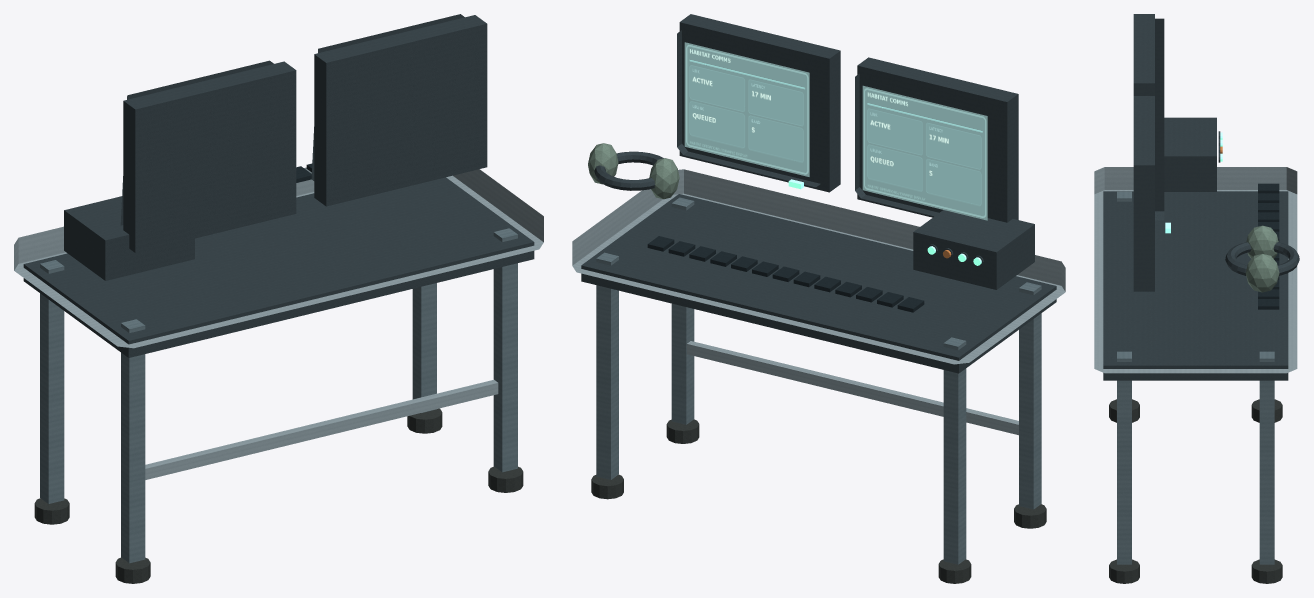
The model's file is communications_station.glb.
The picture shows the model from 3 angles, left to right: view 1: azimuth 30°, elevation 25°; view 2: azimuth 150°, elevation 25°; view 3: azimuth 270°, elevation 25°; orthographic projection. The views are drawn at different scales.
Visible parts, largest first — view 1: Display_Housing__graphite, static__graphite, static__trim, work_surface__alloy, static__alloy, Radio__graphite, feet__rubber, Display__graphite; view 2: static__graphite, Display_Housing__graphite, static__trim, Display__ui_comms_a, Display__ui_comms_b, work_surface__alloy, Radio__graphite, static__alloy, Keyboard__carbon, feet__rubber, Display__graphite, Headset_Earpads__fabric (+1 smaller); view 3: static__graphite, work_surface__alloy, static__trim, Display_Housing__graphite, Radio__graphite, Display__graphite, feet__rubber, Headset_Earpads__fabric, Keyboard__carbon, Headset__graphite.
Boxes of the visible parts, <box> form: Display_Housing__graphite: <box>123,15,487,252</box>; static__graphite: <box>23,177,534,357</box>; static__trim: <box>40,228,517,563</box>; work_surface__alloy: <box>14,167,543,348</box>; static__alloy: <box>145,380,498,479</box>; Radio__graphite: <box>64,196,194,280</box>; feet__rubber: <box>34,408,523,583</box>; Display__graphite: <box>120,14,464,225</box>; static__graphite: <box>581,194,1056,373</box>; Display_Housing__graphite: <box>679,14,1018,222</box>; static__trim: <box>596,197,1041,564</box>; Display__ui_comms_a: <box>862,85,987,220</box>; Display__ui_comms_b: <box>684,42,809,176</box>; work_surface__alloy: <box>572,169,1065,364</box>; Radio__graphite: <box>913,210,1034,289</box>; static__alloy: <box>687,341,1018,435</box>; Keyboard__carbon: <box>647,236,924,312</box>; feet__rubber: <box>591,419,1046,583</box>; Display__graphite: <box>677,27,938,216</box>; Headset_Earpads__fabric: <box>588,143,679,199</box>; static__graphite: <box>1103,191,1288,380</box>; work_surface__alloy: <box>1094,167,1297,373</box>; static__trim: <box>1117,191,1274,564</box>; Display_Housing__graphite: <box>1133,14,1154,291</box>; Radio__graphite: <box>1164,117,1220,191</box>; Display__graphite: <box>1155,18,1164,281</box>; feet__rubber: <box>1109,399,1282,583</box>; Headset_Earpads__fabric: <box>1245,225,1279,292</box>; Keyboard__carbon: <box>1258,183,1279,309</box>; Headset__graphite: <box>1225,242,1299,275</box>.
Size of the model in its own units: 1.43 by 1.48 by 0.6778.
10 materials, 10 textured.
